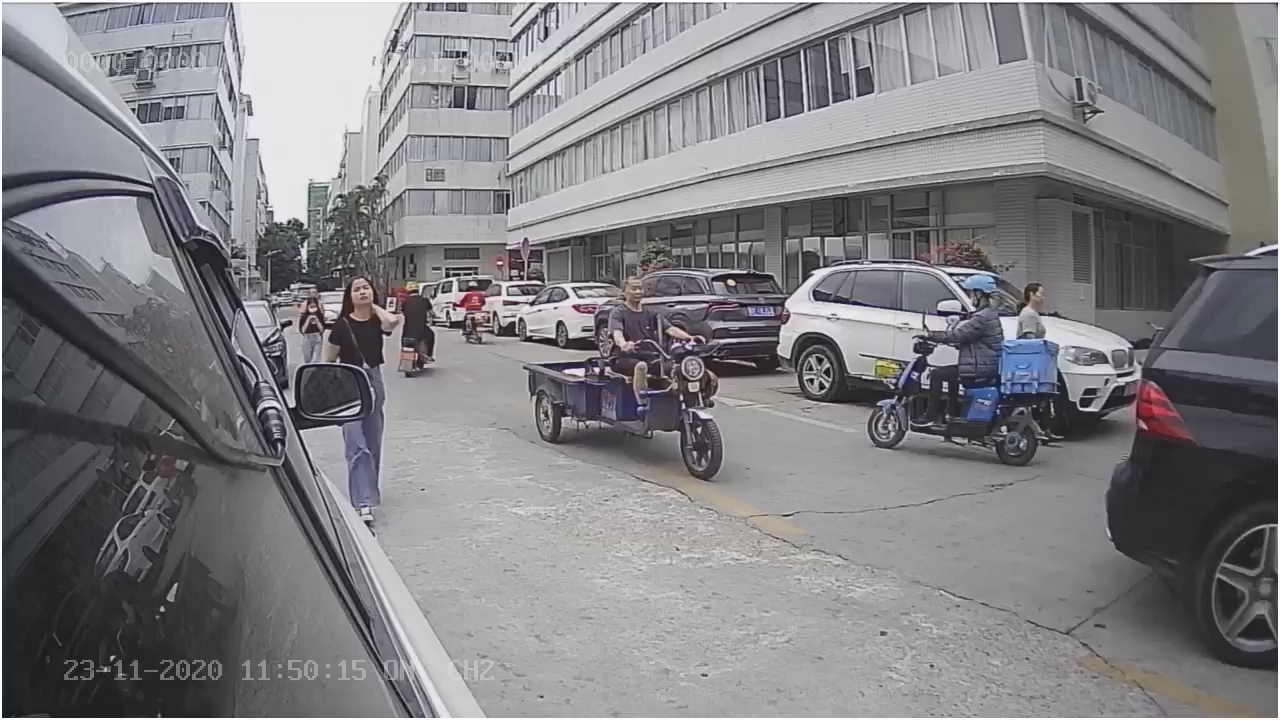person: (320, 272, 399, 362)
